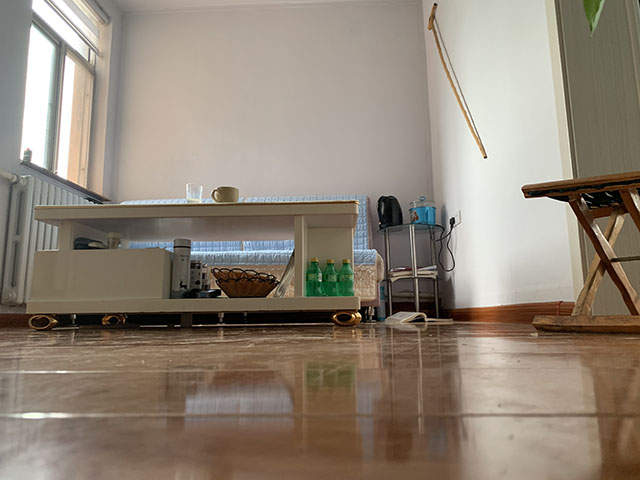book: (384, 310, 454, 324)
sofa: (118, 195, 386, 322)
stool: (520, 171, 640, 335)
table: (23, 200, 363, 333), (375, 223, 444, 319)
